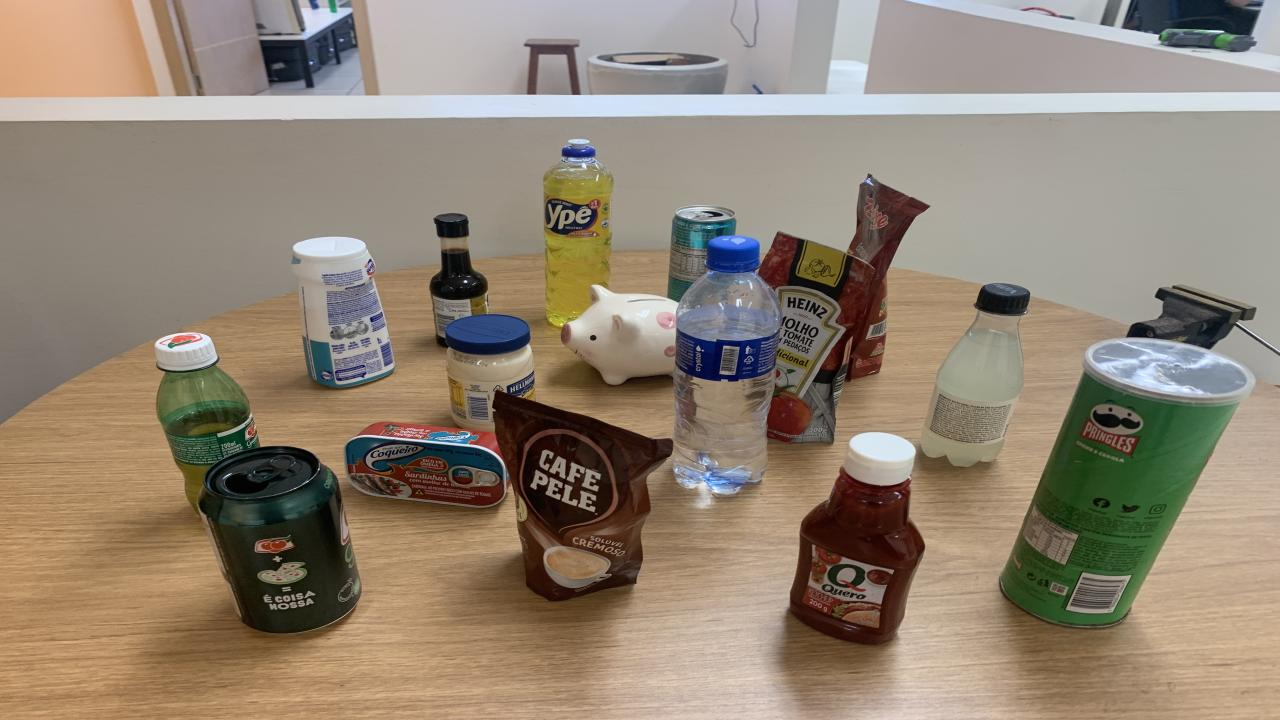Cleaner-Cleanup_Items: (290, 236, 395, 388)
Coffee-Pantry_Items: (492, 392, 672, 600)
Detergent-Cleanup_Items: (542, 139, 612, 326)
English_Sauce-Pantry_Items: (430, 214, 488, 345)
Guarana-Drinks: (155, 332, 260, 510)
Guarana_Can-Drinks: (198, 446, 362, 632)
Ketchup-Pantry_Items: (790, 431, 925, 645)
Mayonnaise-Pantry_Items: (445, 315, 535, 431)
Pig_Safe-Miscellaneous: (560, 285, 678, 384)
Pringles-Snacks: (1000, 338, 1255, 626)
Soda-Drinks: (920, 283, 1030, 467)
Tea-Drinks: (668, 204, 735, 300)
Tomato_Sauce-Pantry_Items: (760, 232, 875, 442), (848, 174, 928, 379)
Tuna_Can-Pantry_Items: (342, 422, 508, 508)
Water_Bottle-Drinks: (672, 236, 782, 495)
